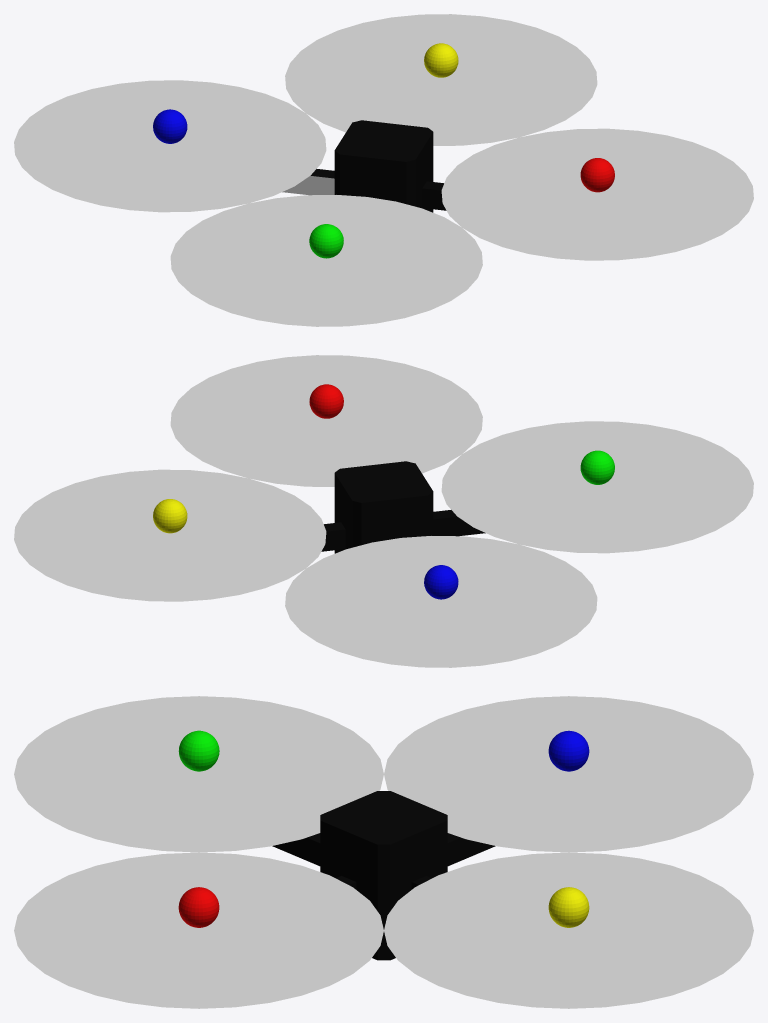
Rendered from quad1.dae.
3 views of the same model, one above another, from view 1: azimuth 30°, elevation 25°; view 2: azimuth 150°, elevation 25°; view 3: azimuth 270°, elevation 25° (orthographic). The views are drawn at different scales.
Parts seen in each view (by area): view 1: Quadcopter; view 2: Quadcopter; view 3: Quadcopter.
Boxes of the visible parts, <box> form: Quadcopter: <box>14,14,753,326</box>; Quadcopter: <box>14,355,753,667</box>; Quadcopter: <box>14,696,753,1008</box>.
Size of the model in its own units: 0.5799 by 0.5799 by 0.106.
